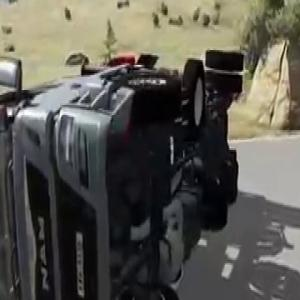serious: (0, 33, 252, 300)
